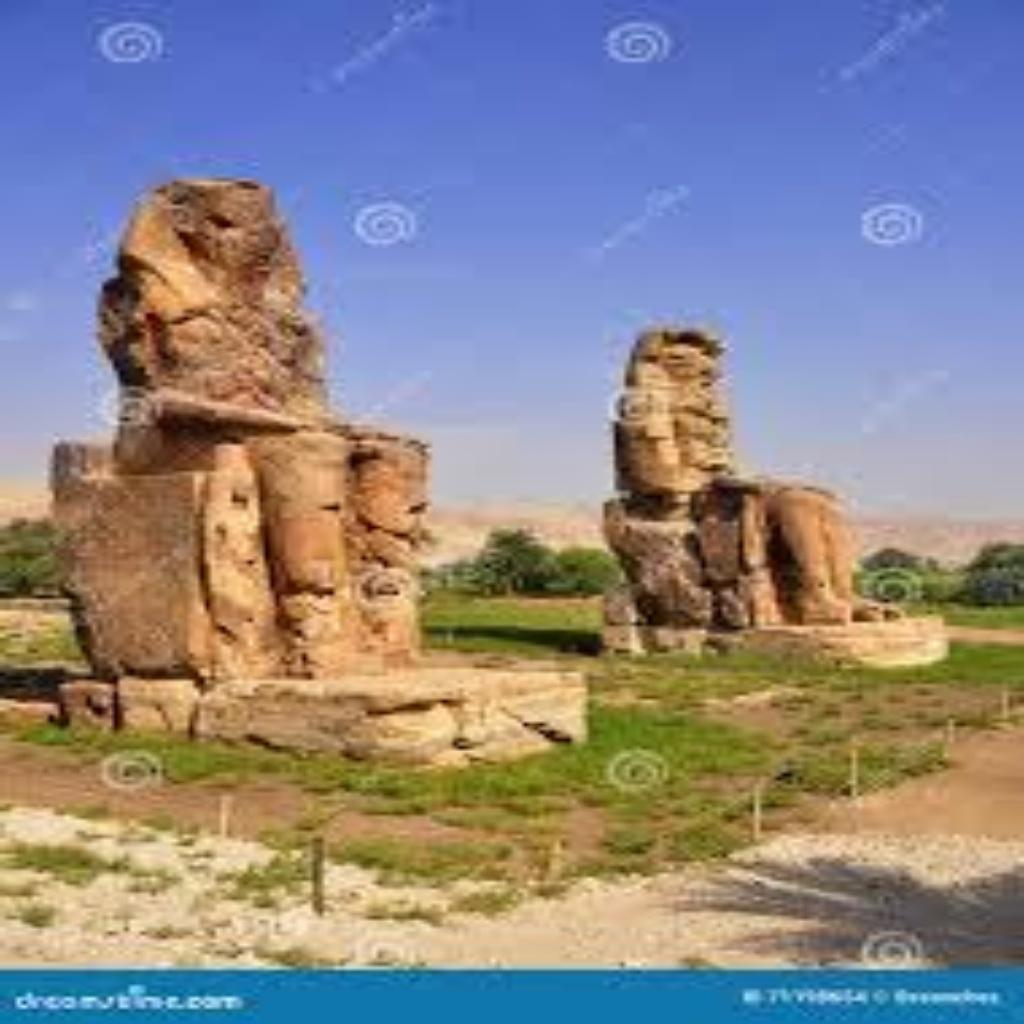Colossoi of Memnon: (38, 170, 442, 692), (588, 317, 906, 657)
